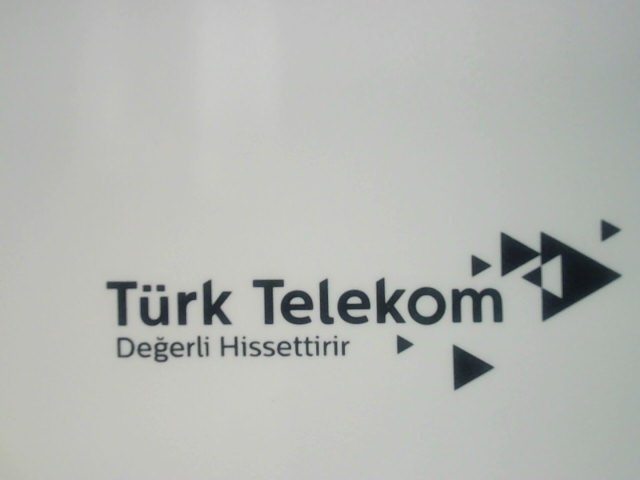AQ_TURKTelekom: (98, 212, 628, 395)
